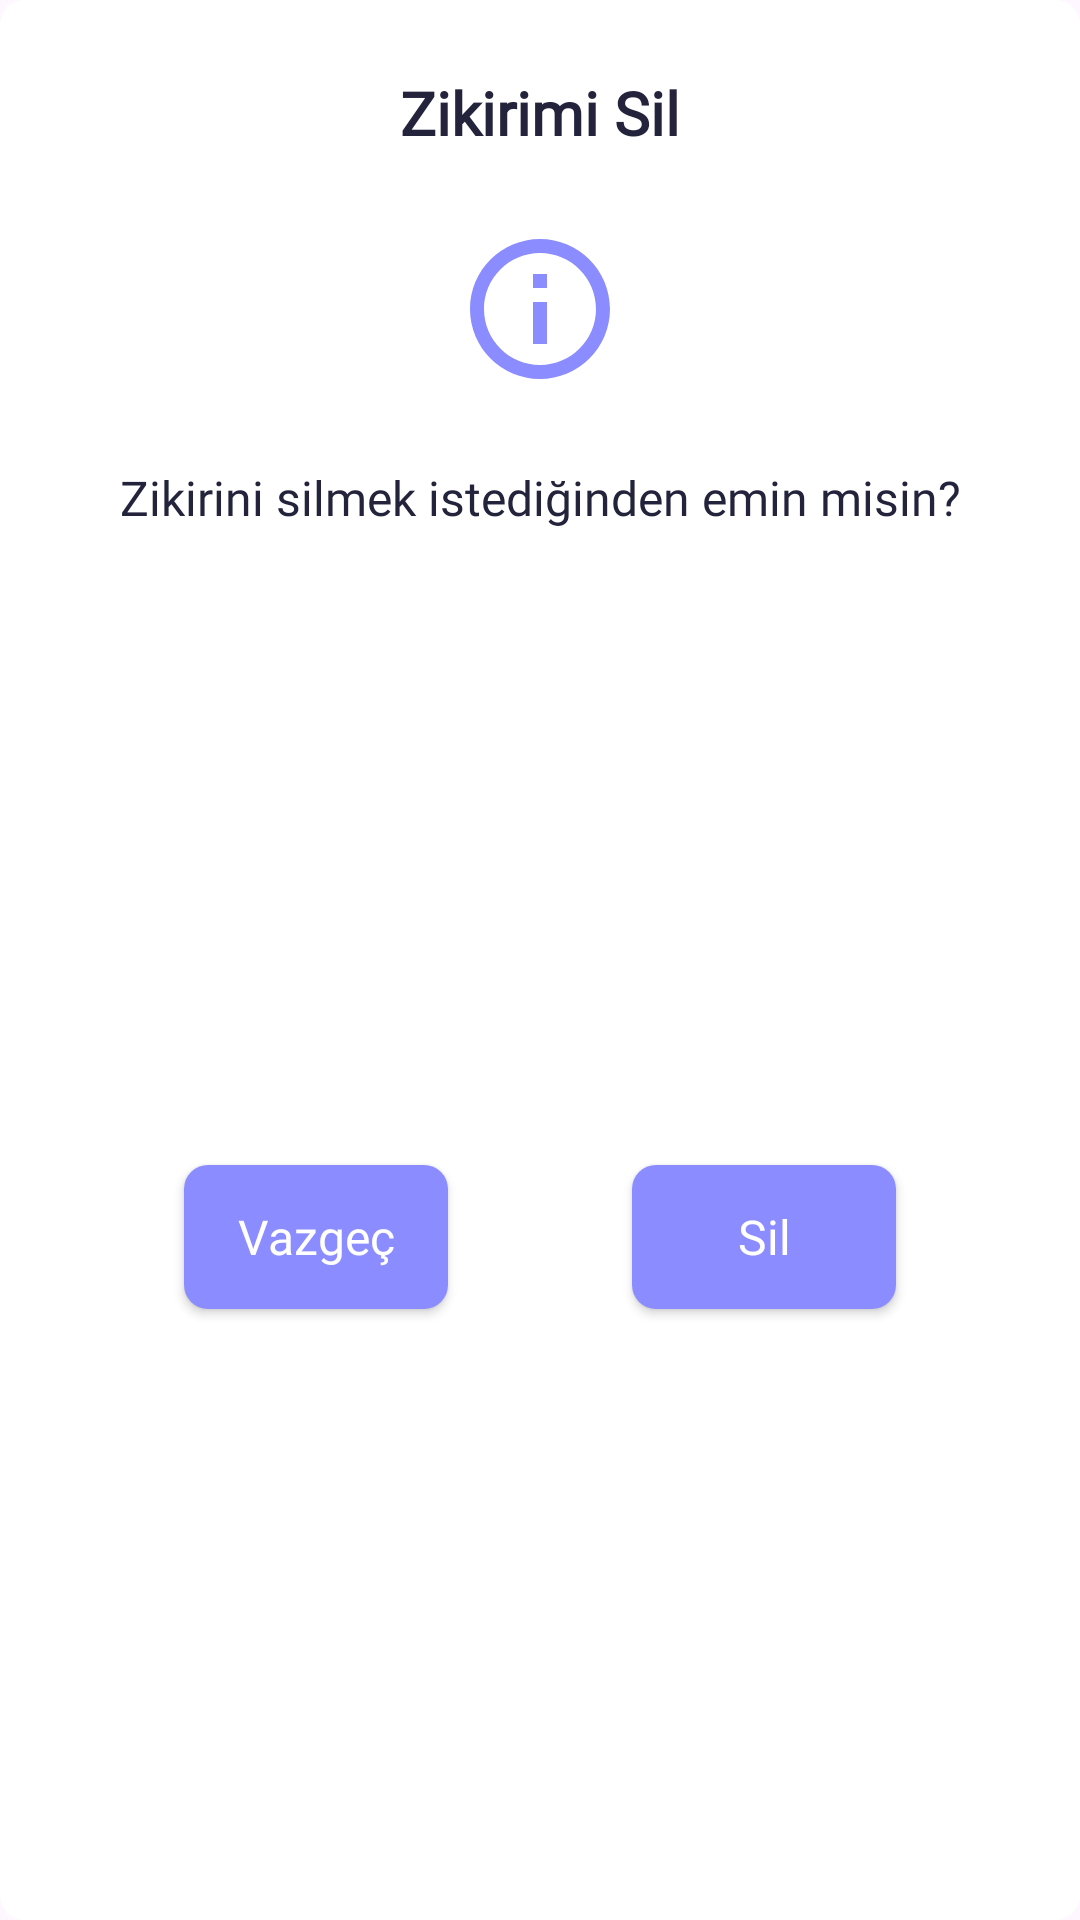

Icon bounding boxes for this 1080 × 1920 phone screenshot, format (left=x1, top=y1, right=x2, bottom=y2):
info: (left=470, top=239, right=610, bottom=379)
